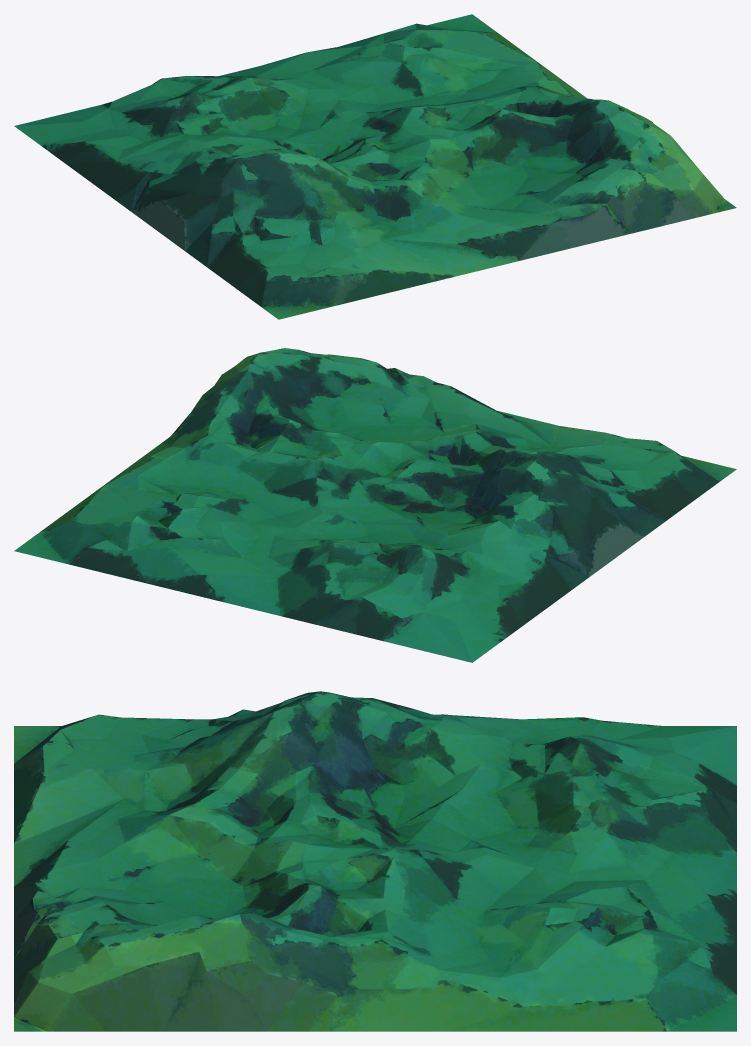
The model's file is land_craggy.fbx.
3 renders of one model, top to bottom at view 1: azimuth 30°, elevation 25°; view 2: azimuth 150°, elevation 25°; view 3: azimuth 270°, elevation 25°, orthographic. The views are drawn at different scales.
Visible parts, largest first — view 1: land_craggy; view 2: land_craggy; view 3: land_craggy.
Boxes of the visible parts, left/top/right/bottom form: land_craggy: left=14, top=14, right=736, bottom=319; land_craggy: left=14, top=348, right=736, bottom=662; land_craggy: left=14, top=691, right=736, bottom=1031.
Size of the model in its own units: 10 by 1.38 by 10.
